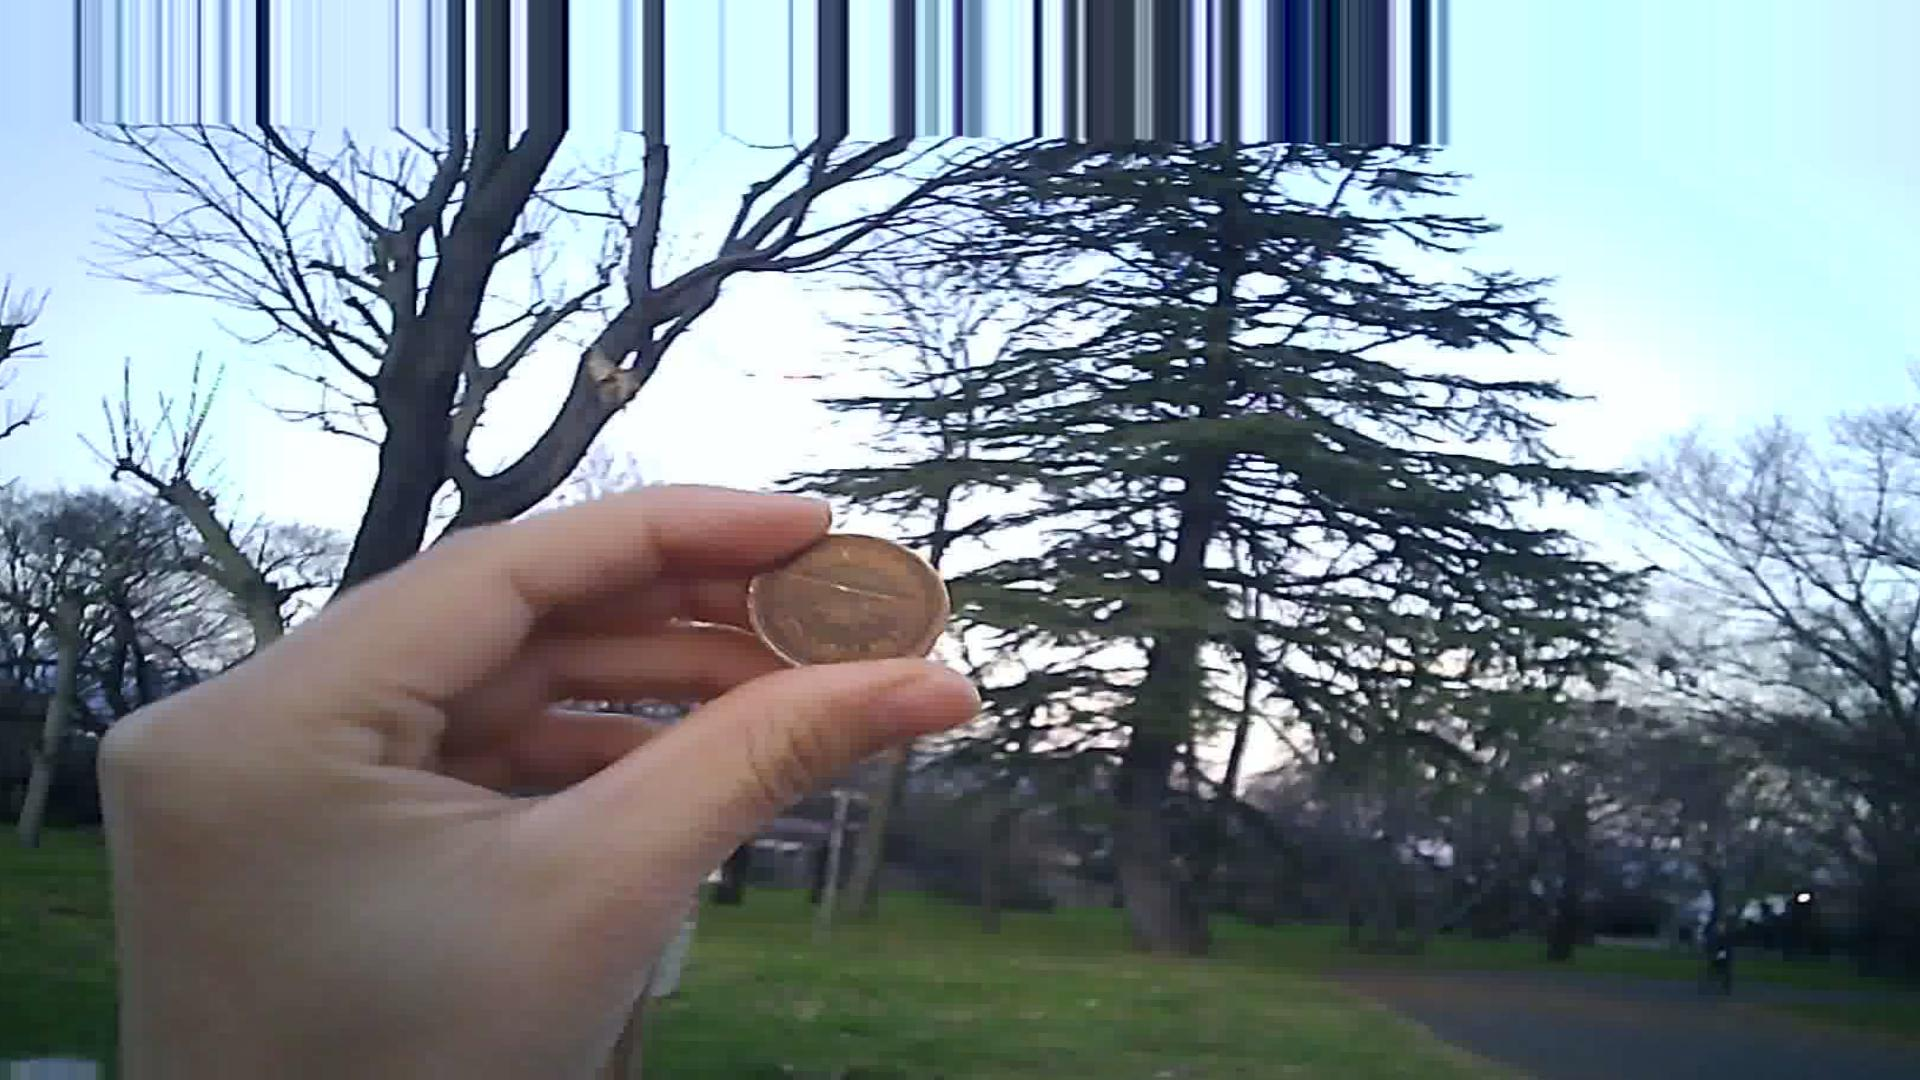10 Yen: (742, 517, 942, 673)
